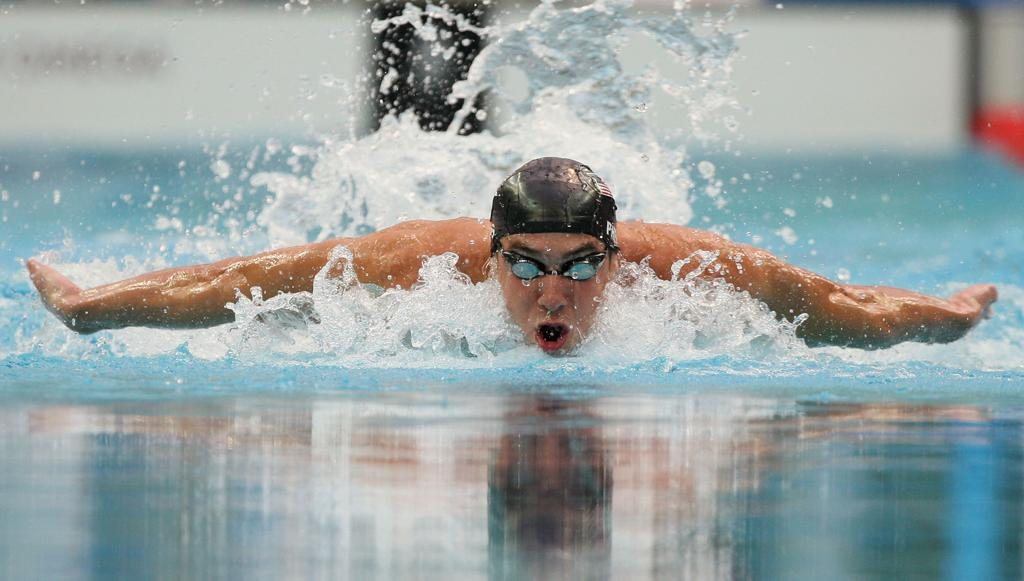face: (508, 220, 602, 360)
